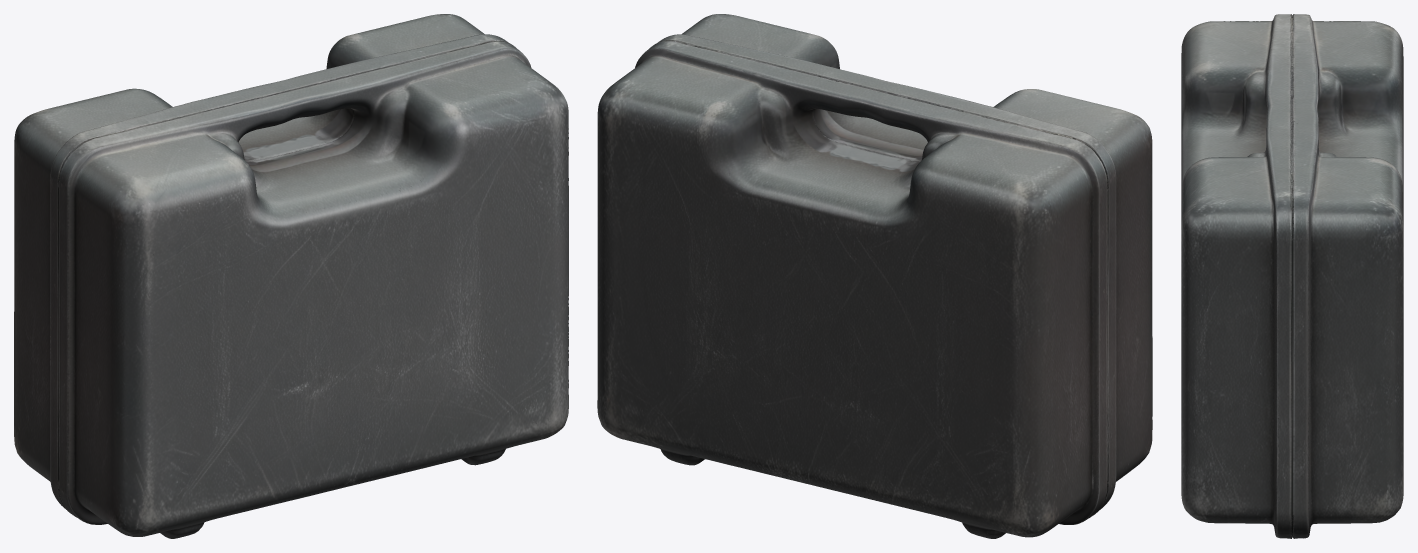
Rendered from SampleCarrier.glb.
3 renders of one model, left to right at view 1: azimuth 30°, elevation 25°; view 2: azimuth 150°, elevation 25°; view 3: azimuth 270°, elevation 25°, orthographic. The views are drawn at different scales.
Parts seen in each view (by area): view 1: texture_mapping; view 2: texture_mapping; view 3: texture_mapping.
Boxes of the visible parts, left/top/right/bottom form: texture_mapping: left=14, top=14, right=568, bottom=538; texture_mapping: left=597, top=14, right=1152, bottom=538; texture_mapping: left=1181, top=14, right=1403, bottom=538.
Size of the model in its own units: 0.9999 by 0.7859 by 0.4574.
Materials: 1 (1 with a texture image).
